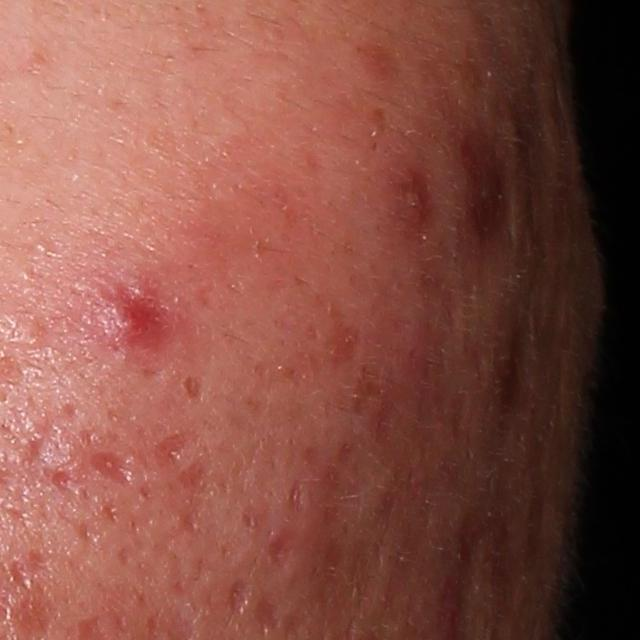atrophic_scar: (22, 403, 82, 497), (147, 425, 197, 476), (88, 448, 142, 493), (264, 523, 300, 568), (226, 572, 253, 618), (284, 480, 307, 516)
papule: (95, 294, 156, 347), (401, 177, 432, 221)
